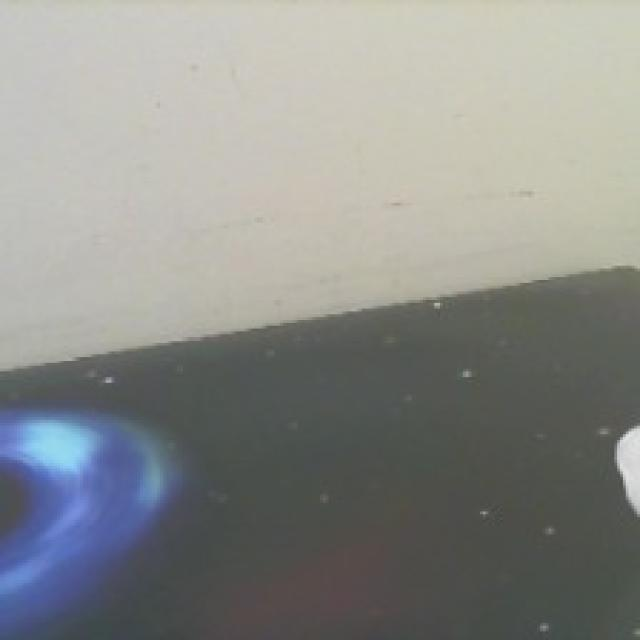Black Hole: (0, 403, 177, 640)
